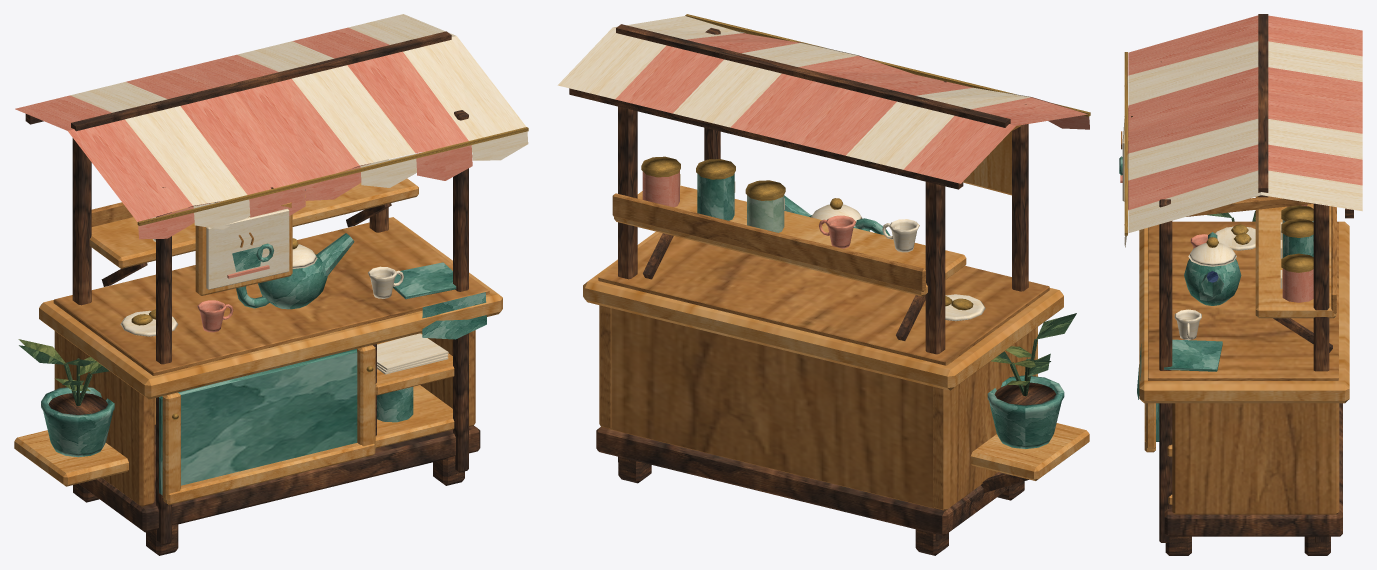
Rendered from bk_project_candidate_tea_kiosk_editable_parts.glb.
The picture shows the model from 3 angles, left to right: view 1: azimuth 30°, elevation 25°; view 2: azimuth 150°, elevation 25°; view 3: azimuth 270°, elevation 25°; orthographic projection. The views are drawn at different scales.
Parts seen in each view (by area): view 1: 016 Warm oil-painted serving surface, 009 Indigo hand-painted front panel, 015 Generous serving counter golden edge, 000 Tea kiosk underframe, 031 Broad stripe canopy cloth 4, 025 Broad stripe canopy cloth 1, 037 Broad stripe canopy cloth 7, 029 Broad stripe canopy cloth 3, 033 Broad stripe canopy cloth 5, 035 Broad stripe canopy cloth 6, 027 Broad stripe canopy cloth 2, 007 Tea kiosk left lower side wall (+34 smaller); view 2: 006 Tea kiosk back storage wall, 016 Warm oil-painted serving surface, 015 Generous serving counter golden edge, 000 Tea kiosk underframe, 043 Shelf back lip, 007 Tea kiosk left lower side wall, 025 Broad stripe canopy cloth 1, 040 Back tea display shelf, 031 Broad stripe canopy cloth 4, 033 Broad stripe canopy cloth 5, 037 Broad stripe canopy cloth 7, 027 Broad stripe canopy cloth 2 (+24 smaller); view 3: 008 Tea kiosk right lower side wall, 016 Warm oil-painted serving surface, 015 Generous serving counter golden edge, 027 Broad stripe canopy cloth 2, 035 Broad stripe canopy cloth 6, 033 Broad stripe canopy cloth 5, 029 Broad stripe canopy cloth 3, 025 Broad stripe canopy cloth 1, 037 Broad stripe canopy cloth 7, 031 Broad stripe canopy cloth 4, 000 Tea kiosk underframe, 040 Back tea display shelf (+21 smaller).
Boxes of the visible parts, left/top/right/bottom form: 016 Warm oil-painted serving surface: left=53, top=217, right=489, bottom=375; 009 Indigo hand-painted front panel: left=159, top=349, right=357, bottom=495; 015 Generous serving counter golden edge: left=39, top=217, right=502, bottom=399; 000 Tea kiosk underframe: left=79, top=425, right=480, bottom=532; 031 Broad stripe canopy cloth 4: left=181, top=54, right=359, bottom=181; 025 Broad stripe canopy cloth 1: left=15, top=95, right=192, bottom=221; 037 Broad stripe canopy cloth 7: left=348, top=14, right=526, bottom=140; 029 Broad stripe canopy cloth 3: left=126, top=68, right=302, bottom=194; 033 Broad stripe canopy cloth 5: left=237, top=41, right=414, bottom=165; 035 Broad stripe canopy cloth 6: left=292, top=27, right=468, bottom=153; 027 Broad stripe canopy cloth 2: left=70, top=82, right=247, bottom=205; 007 Tea kiosk left lower side wall: left=54, top=331, right=154, bottom=506; 006 Tea kiosk back storage wall: left=610, top=308, right=935, bottom=508; 016 Warm oil-painted serving surface: left=598, top=232, right=1049, bottom=365; 015 Generous serving counter golden edge: left=583, top=231, right=1063, bottom=390; 000 Tea kiosk underframe: left=596, top=427, right=1014, bottom=535; 043 Shelf back lip: left=612, top=193, right=925, bottom=291; 007 Tea kiosk left lower side wall: left=933, top=328, right=1035, bottom=510; 025 Broad stripe canopy cloth 1: left=903, top=97, right=1087, bottom=183; 040 Back tea display shelf: left=614, top=185, right=966, bottom=296; 031 Broad stripe canopy cloth 4: left=730, top=56, right=914, bottom=141; 033 Broad stripe canopy cloth 5: left=673, top=43, right=857, bottom=127; 037 Broad stripe canopy cloth 7: left=557, top=16, right=742, bottom=99; 027 Broad stripe canopy cloth 2: left=846, top=87, right=1029, bottom=169; 008 Tea kiosk right lower side wall: left=1172, top=403, right=1339, bottom=514; 016 Warm oil-painted serving surface: left=1148, top=221, right=1338, bottom=380; 015 Generous serving counter golden edge: left=1139, top=221, right=1349, bottom=403; 027 Broad stripe canopy cloth 2: left=1128, top=41, right=1362, bottom=105; 035 Broad stripe canopy cloth 6: left=1128, top=144, right=1362, bottom=210; 033 Broad stripe canopy cloth 5: left=1128, top=118, right=1362, bottom=180; 029 Broad stripe canopy cloth 3: left=1128, top=67, right=1362, bottom=132; 025 Broad stripe canopy cloth 1: left=1128, top=15, right=1362, bottom=75; 037 Broad stripe canopy cloth 7: left=1128, top=170, right=1362, bottom=233; 031 Broad stripe canopy cloth 4: left=1128, top=93, right=1362, bottom=153; 000 Tea kiosk underframe: left=1164, top=403, right=1342, bottom=536; 040 Back tea display shelf: left=1255, top=196, right=1336, bottom=318.
Bounding box in the file's own units: 2.5 × 2.26 × 1.3.
Materials: 3 (3 with a texture image).
